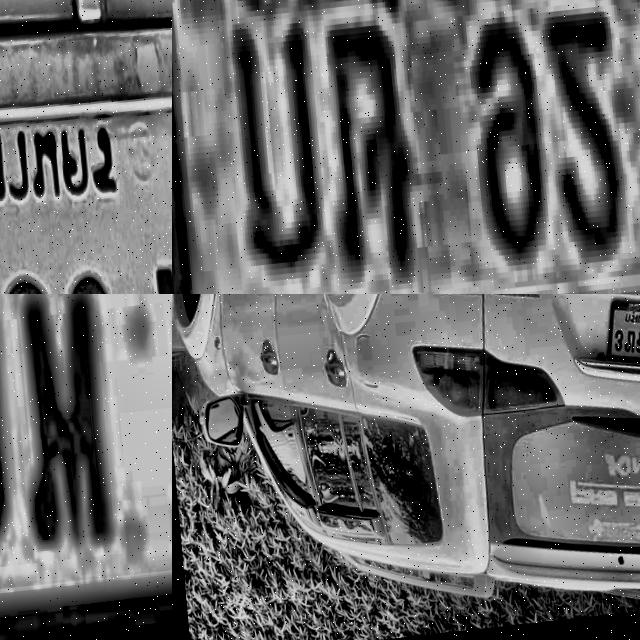license-plate: (172, 0, 640, 294), (0, 294, 172, 640), (0, 5, 172, 294), (594, 299, 640, 389)
